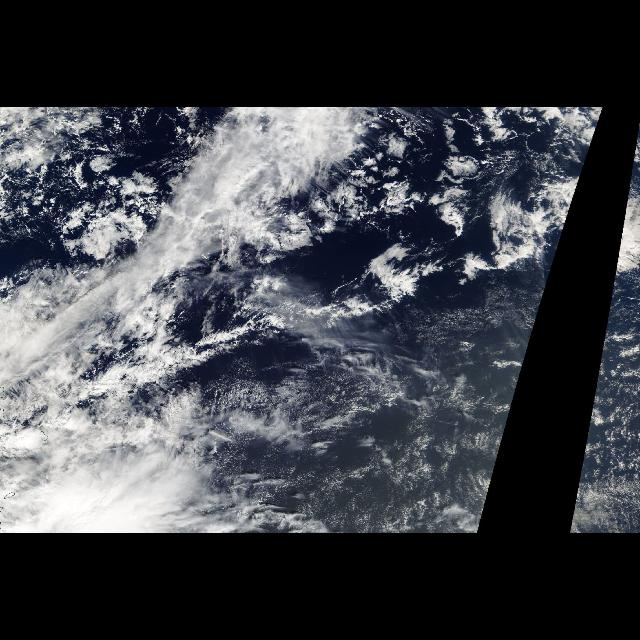Fish: (116, 300, 344, 372)
Sugar: (266, 387, 518, 525), (571, 387, 635, 525)
